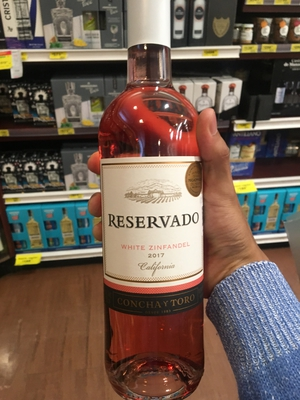reservado white zinfandel: (84, 8, 222, 394)
